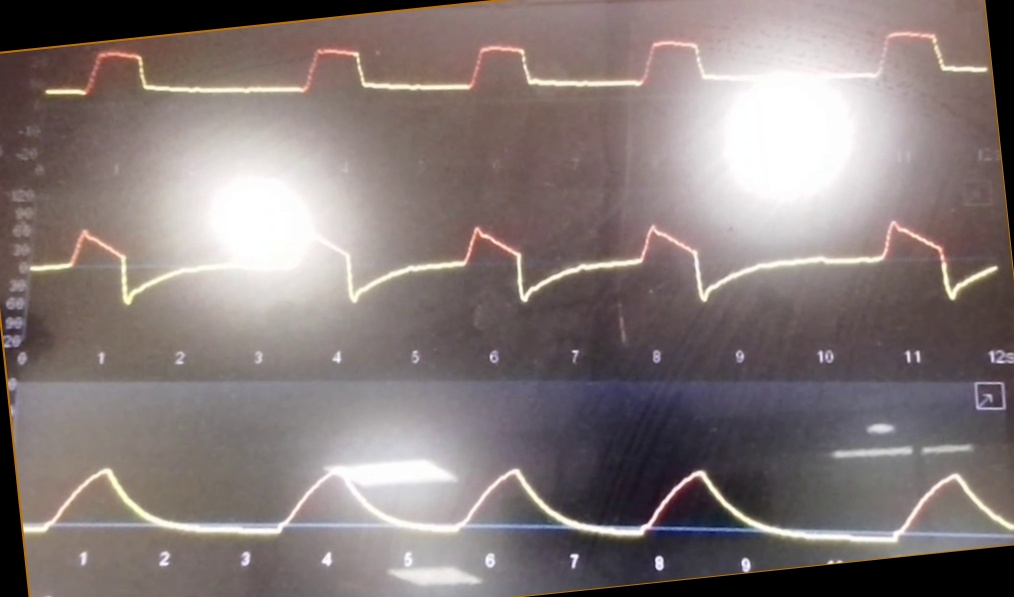Normal Flow: (36, 187, 999, 326)
Normal Volume: (26, 416, 1014, 544)
